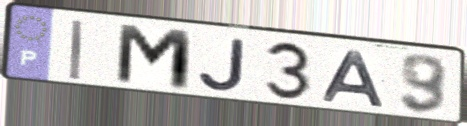3: (261, 39, 316, 104)
9: (397, 52, 448, 117)
A: (320, 49, 388, 110)
I: (68, 18, 86, 82)
J: (195, 36, 249, 94)
M: (113, 21, 196, 95)
